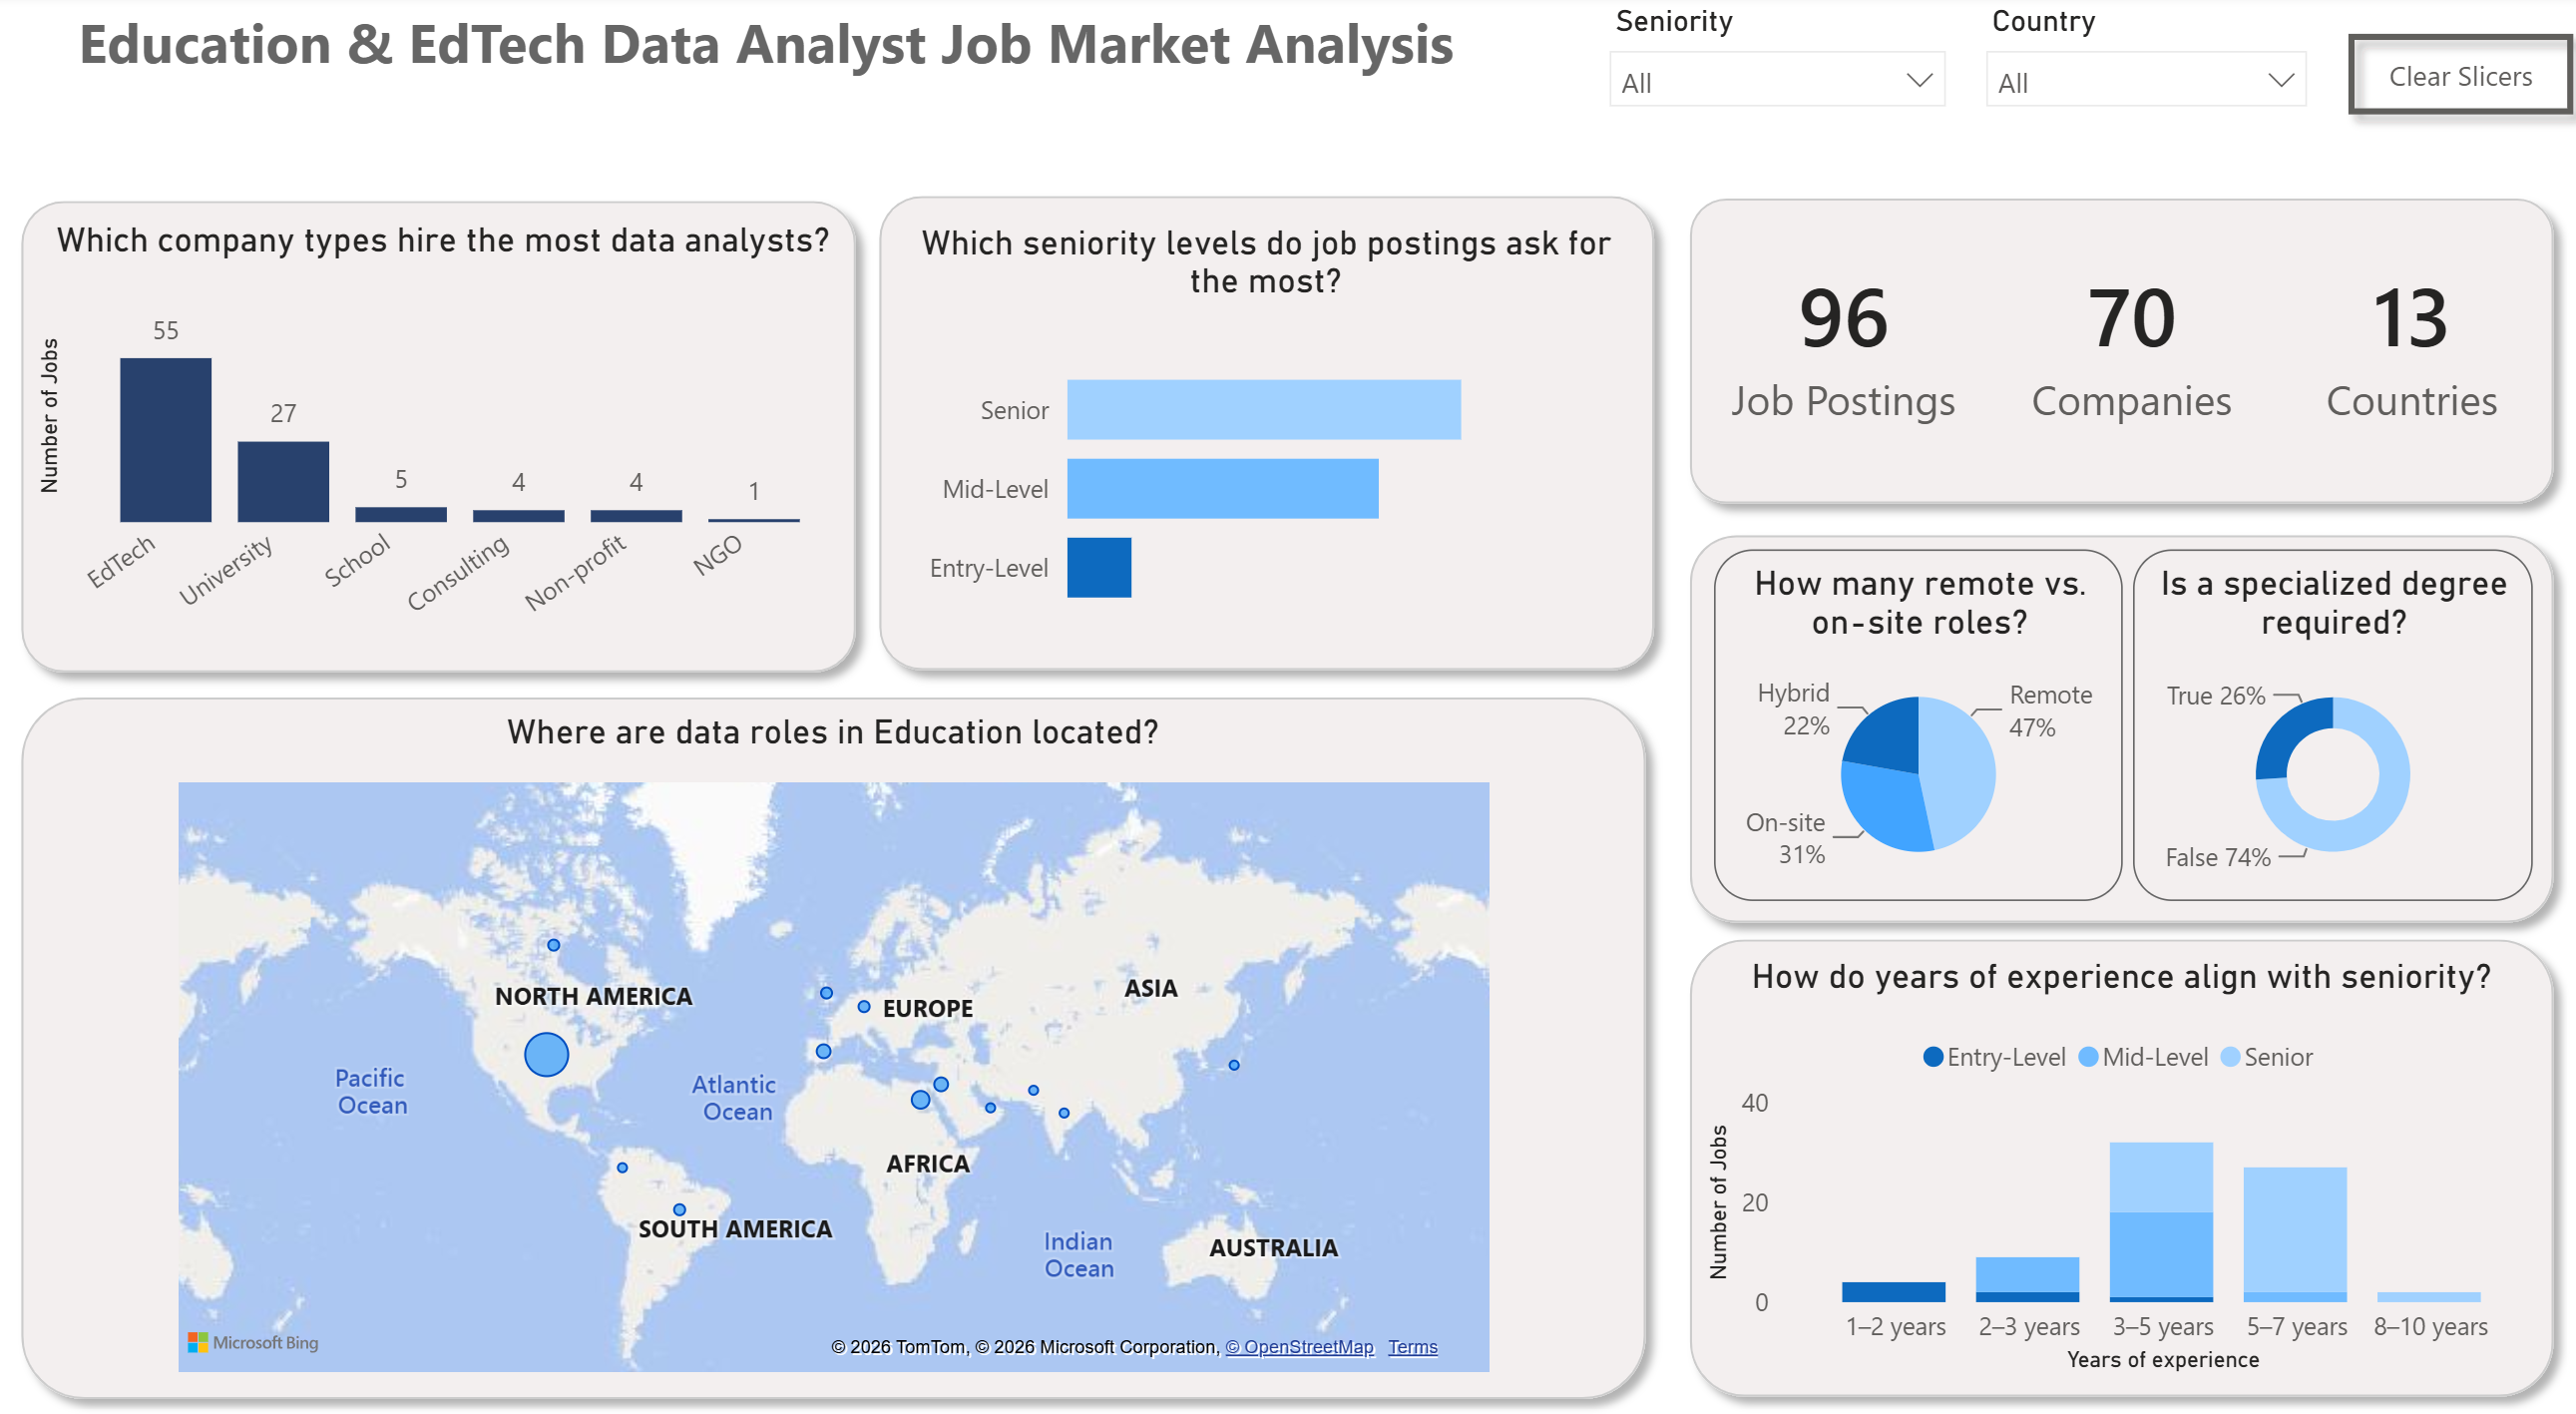

The dashboard page shown, as its layout file describes it:
{"tool":"powerbi","page":{"name":"Overview","canvas":[1280,720],"ordinal":0},"visuals":[{"type":"shape","box":[827.8,91.7,441.4,167.5],"z":0,"group":"g1"},{"type":"group","id":"g1","title":"Background","box":[9.7,90.4,1259.5,607.3],"z":1000,"group":"g2"},{"type":"shape","box":[9.7,92.5,427.1,249],"z":1000,"group":"g1"},{"type":"shape","box":[827.8,256.8,441.4,207.9],"z":2000,"group":"g1"},{"type":"pieChart","title":"How many remote vs. on-site roles?","fields":{"Category":["ed_job_postings.Remote, hybrid, or on-site?"],"Y":["CountNonNull(ed_job_postings.Remote, hybrid, or on-site?)"]},"box":[848.6,272.9,200.5,172.4],"z":2000,"group":"g2"},{"type":"barChart","title":"Which seniority levels do job postings ask for the most?","fields":{"Category":["ed_job_postings.Seniority"],"Y":["CountNonNull(ed_job_postings.Seniority)"]},"box":[452.1,112.7,353.4,205.9],"z":3000,"group":"g2"},{"type":"shape","box":[9.7,335.8,814.4,362],"z":3000,"group":"g1"},{"type":"columnChart","title":"How do years of experience align with seniority?","fields":{"Category":["ed_job_postings.Years of experience"],"Y":["CountNonNull(ed_job_postings.Job ID)"],"Series":["ed_job_postings.Seniority"]},"box":[231,396.4,412.1,206.7],"z":4000,"group":"g2"},{"type":"shape","box":[827.8,454.9,441.4,242.1],"z":4000,"group":"g1"},{"type":"shape","box":[429.9,90.4,397.9,250.4],"z":4500,"group":"g1"},{"type":"donutChart","title":"Is a specialized degree required?","fields":{"Category":["ed_job_postings.Specific Degree Required?"],"Y":["CountNonNull(ed_job_postings.Job ID)"]},"box":[1054.6,272.7,196.2,172.5],"z":5000,"group":"g2"},{"type":"columnChart","title":"Which company types hire the most data analysts?","fields":{"Y":["CountNonNull(ed_job_postings.Job ID)"],"Category":["ed_job_postings.Company Type"]},"box":[22.2,111.3,407.7,210.1],"z":6000,"group":"g2"},{"type":"cardVisual","fields":{"Data":["CountNonNull(ed_job_postings.Job ID)"]},"box":[827.8,112.7,170,117.4],"z":7000,"group":"g2"},{"type":"cardVisual","fields":{"Data":["Count(ed_job_postings.Company)"]},"box":[972.5,112.7,163.9,117.4],"z":8000,"group":"g2"},{"type":"cardVisual","fields":{"Data":["Count(ed_job_postings.Country)"]},"box":[1114.4,112.7,154.1,117.4],"z":9000,"group":"g2"},{"type":"slicer","fields":{"Values":["ed_job_postings.Country"]},"box":[972.2,0,177.3,68.5],"z":10000},{"type":"textbox","box":[0,0,767.9,79.5],"z":11000},{"type":"slicer","fields":{"Values":["ed_job_postings.Seniority"]},"box":[787.5,0,184.6,68.5],"z":12000},{"type":"map","title":"Where are data roles in Education located?","fields":{"Size":["CountNonNull(ed_job_postings.Job ID)"],"Category":["ed_job_postings.Country"]},"box":[90.4,352,653,328.9],"z":13000,"group":"g2"},{"type":"actionButton","box":[1151.2,11.2,128.8,57.5],"z":14000},{"type":"columnChart","title":"How do years of experience align with seniority?","fields":{"Category":["ed_job_postings.Years of experience"],"Y":["CountNonNull(ed_job_postings.Job ID)"],"Series":["ed_job_postings.Seniority"]},"box":[840.3,471.6,417.4,208.7],"z":15000,"group":"g2"},{"type":"group","id":"g2","title":"Group 1","box":[9.7,90.4,1259.1,608],"z":15001}]}

Visuals, with their boxes in screenshot pixels (x1, y1, x2, y2), scaled from the page's 1280x720 canvas onto the 2576x1414 screenshot:
shape: (x1=1666, y1=180, x2=2554, y2=509)
"Background" group: (x1=20, y1=178, x2=2554, y2=1370)
shape: (x1=20, y1=182, x2=879, y2=671)
shape: (x1=1666, y1=504, x2=2554, y2=913)
"How many remote vs. on-site roles?" pieChart: (x1=1708, y1=536, x2=2111, y2=874)
"Which seniority levels do job postings ask for the most?" barChart: (x1=910, y1=222, x2=1621, y2=626)
shape: (x1=20, y1=660, x2=1658, y2=1370)
"How do years of experience align with seniority?" columnChart: (x1=465, y1=778, x2=1294, y2=1184)
shape: (x1=1666, y1=893, x2=2554, y2=1369)
shape: (x1=865, y1=178, x2=1666, y2=670)
"Is a specialized degree required?" donutChart: (x1=2122, y1=536, x2=2517, y2=874)
"Which company types hire the most data analysts?" columnChart: (x1=45, y1=219, x2=865, y2=632)
cardVisual - CountNonNull(ed_job_postings.Job ID): (x1=1666, y1=222, x2=2008, y2=452)
cardVisual - Count(ed_job_postings.Company): (x1=1957, y1=222, x2=2287, y2=452)
cardVisual - Count(ed_job_postings.Country): (x1=2243, y1=222, x2=2553, y2=452)
slicer - ed_job_postings.Country: (x1=1956, y1=0, x2=2314, y2=135)
textbox: (x1=0, y1=0, x2=1545, y2=156)
slicer - ed_job_postings.Seniority: (x1=1585, y1=0, x2=1956, y2=135)
"Where are data roles in Education located?" map: (x1=182, y1=692, x2=1497, y2=1337)
actionButton: (x1=2317, y1=22, x2=2575, y2=135)
"How do years of experience align with seniority?" columnChart: (x1=1691, y1=926, x2=2531, y2=1336)
"Group 1" group: (x1=20, y1=178, x2=2553, y2=1371)
